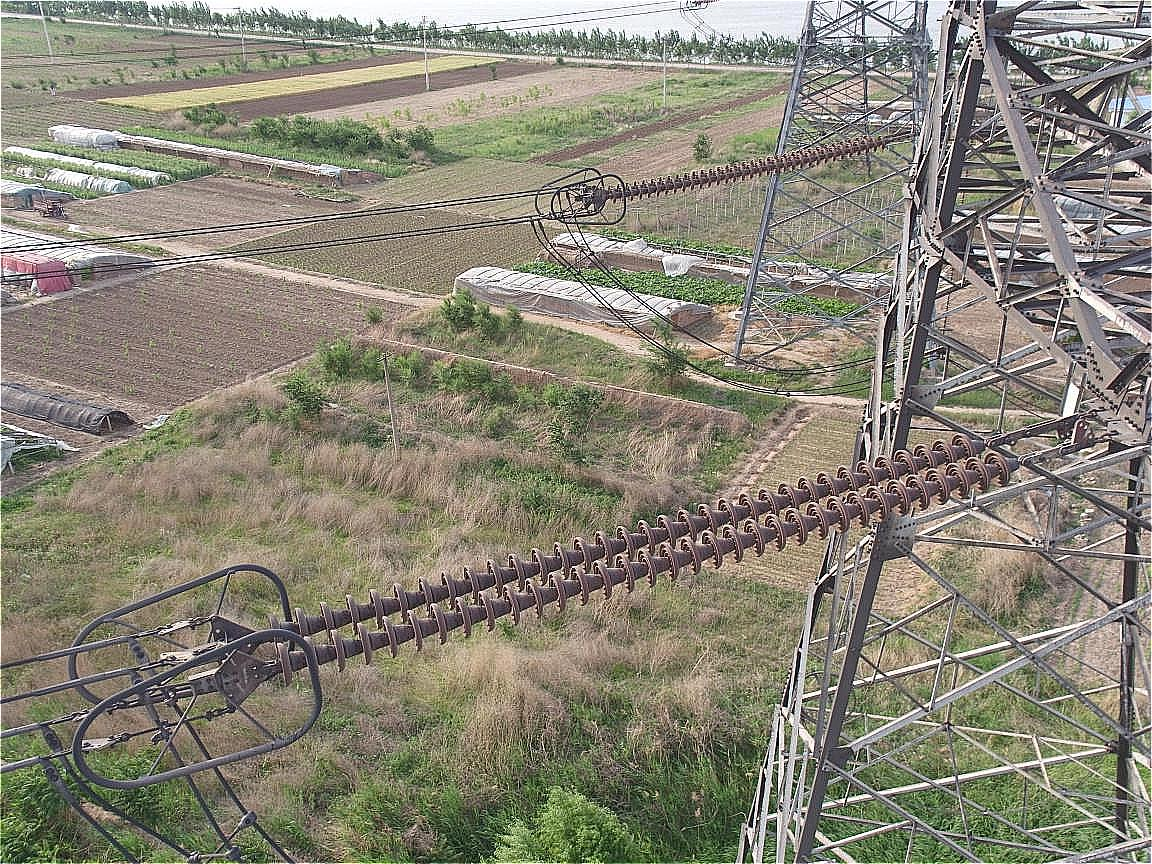insultor1: (249, 424, 1053, 701), (578, 116, 894, 213)
